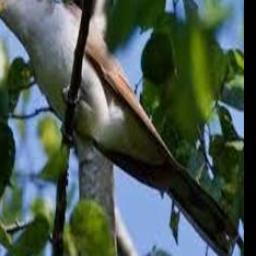Cuckoo: (0, 0, 238, 256)
